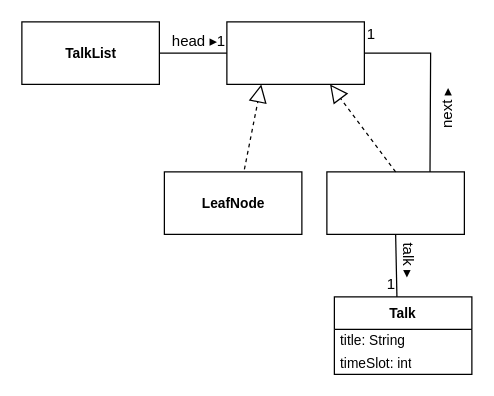
Some shapes in this 494 by 396 pixel diagram are drawn without their labels. The shapes that lost their labels are listed below. From the top down, each one's centre as x and y in pixels, then its label:
At [295,52]: "«interface» Node".
At [395,202]: "InnerNode".
